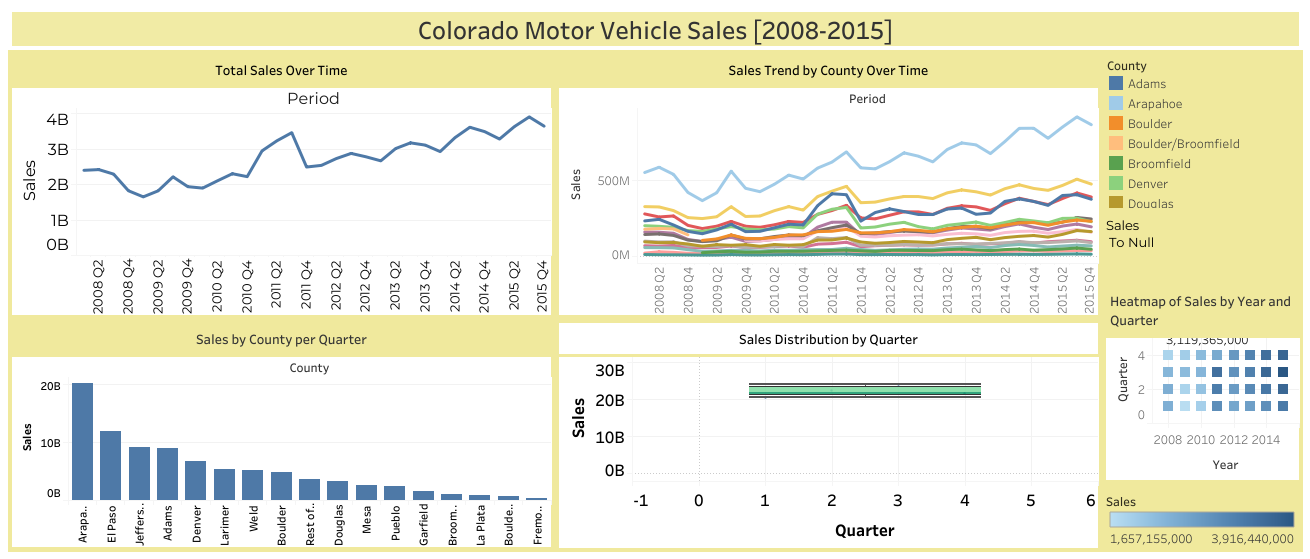

What the dashboard file says about the page in this screenshot:
{"tool":"tableau","page":{"name":"Colorado Vehicle Sales [2008-2015]","canvas":[1000,1000],"units":"permille","ordinal":0},"visuals":[{"type":"title","box":[7.5,14.3,985,73.2]},{"type":"worksheet","title":"Total Sales Over Time (Line Chart)","mark":"Line","rows":["sales"],"cols":["Calculation_3803289907935285248"],"box":[7.5,87.5,398.1,480.5]},{"type":"worksheet","title":"Trend by County","mark":"Line","rows":["sales"],"cols":["Calculation_3803289907935285248"],"box":[405.6,87.5,398.1,480.5]},{"type":"legend","title":"Trend by County","param":"[federated.0v8hln31fhp5qi14wjfwp1lppps7].[none:county:nk]","box":[803.8,87.5,188.7,291.3]},{"type":"filter","title":"Total Sales Over Time (Line Chart)","param":"[federated.0v8hln31fhp5qi14wjfwp1lppps7].[sum:sales:qk]","box":[803.8,378.8,188.7,121.4]},{"type":"worksheet","title":"Heatmap of Sales by Year and Quarter","mark":"Square","rows":["quarter"],"cols":["year"],"box":[803.8,500.3,188.7,369.4]},{"type":"worksheet","title":"Sales by County per Quarter","mark":"Automatic","rows":["sales"],"cols":["county"],"box":[7.5,568,398.1,417.7]},{"type":"worksheet","title":"Sales Distribution by Quarter","mark":"Circle","rows":["sales"],"cols":["quarter"],"box":[405.6,568,398.1,417.7]},{"type":"legend","title":"Heatmap of Sales by Year and Quarter","param":"[federated.0v8hln31fhp5qi14wjfwp1lppps7].[sum:sales:qk]","box":[803.8,869.6,188.7,116.1]}]}

Visuals, with their boxes on the dashboard's canvas, which has no fixed pixel size, in thousandths of its width and height (x1, y1, x2, y2). These are canvas units, not pixel positions in the 1310x559 screenshot, which may show the page scaled, cropped or inside an application window:
title: (left=8, top=14, right=992, bottom=88)
"Total Sales Over Time (Line Chart)" worksheet (Line marks): (left=8, top=88, right=406, bottom=568)
"Trend by County" worksheet (Line marks): (left=406, top=88, right=804, bottom=568)
"Trend by County" legend: (left=804, top=88, right=992, bottom=379)
"Total Sales Over Time (Line Chart)" filter: (left=804, top=379, right=992, bottom=500)
"Heatmap of Sales by Year and Quarter" worksheet (Square marks): (left=804, top=500, right=992, bottom=870)
"Sales by County per Quarter" worksheet: (left=8, top=568, right=406, bottom=986)
"Sales Distribution by Quarter" worksheet (Circle marks): (left=406, top=568, right=804, bottom=986)
"Heatmap of Sales by Year and Quarter" legend: (left=804, top=870, right=992, bottom=986)
